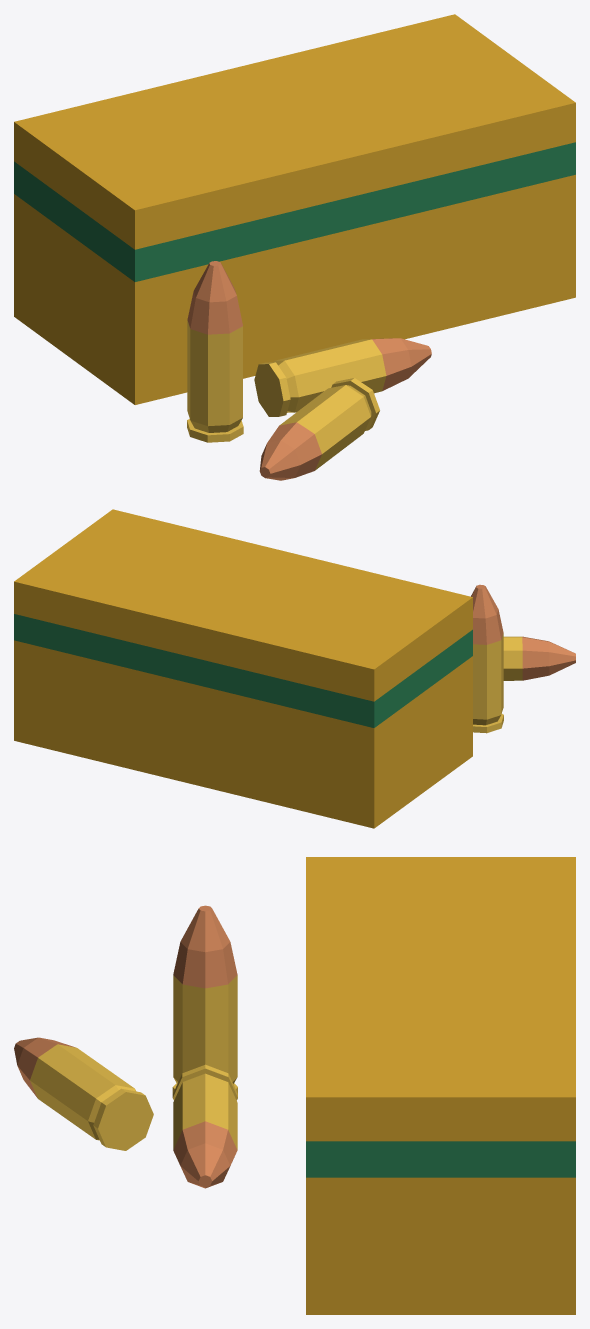
Rendered from amunicja-9mm-DRAcLURq.glb.
3 renders of one model, top to bottom at view 1: azimuth 30°, elevation 25°; view 2: azimuth 150°, elevation 25°; view 3: azimuth 270°, elevation 25°, orthographic. The views are drawn at different scales.
Visible parts, largest first — view 1: Ammo_shotgun; view 2: Ammo_shotgun; view 3: Ammo_shotgun.
Boxes of the visible parts, box(x1,y1,x2,y2) form: Ammo_shotgun: box(14, 14, 575, 480); Ammo_shotgun: box(14, 509, 575, 828); Ammo_shotgun: box(14, 857, 575, 1314).
Size of the model in its own units: 0.1778 by 0.0754 by 0.1754.
